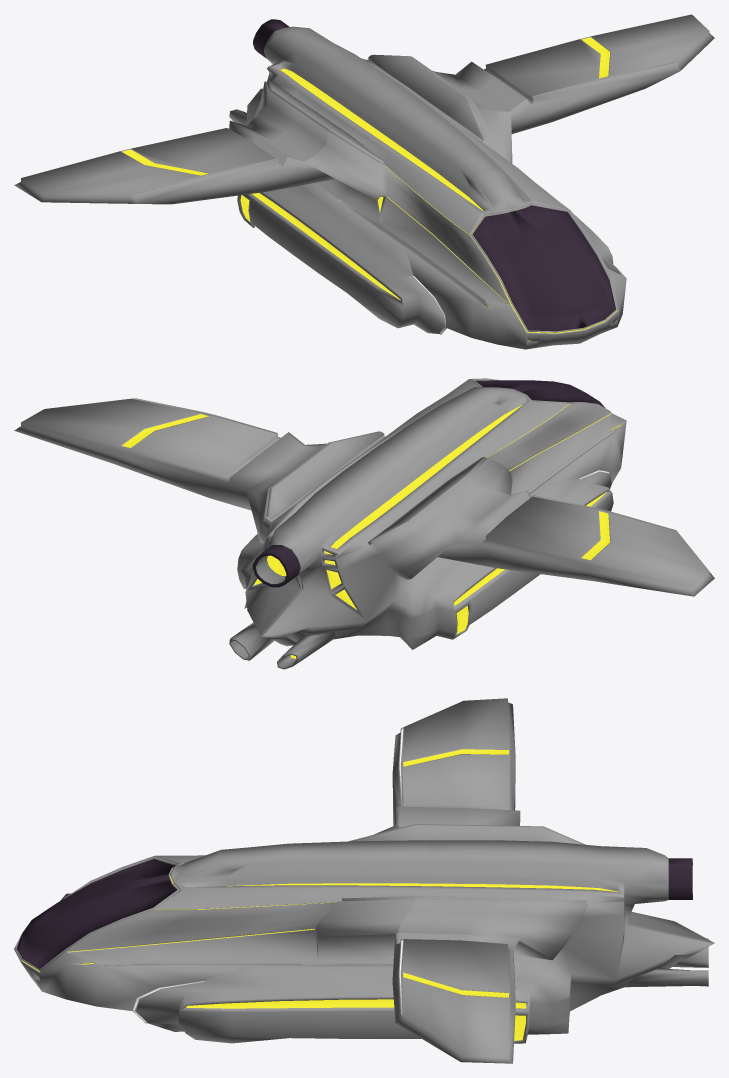
The model's file is spacecraft.glb.
3 views of the same model, one above another, from view 1: azimuth 30°, elevation 25°; view 2: azimuth 150°, elevation 25°; view 3: azimuth 270°, elevation 25° (orthographic). The views are drawn at different scales.
Parts seen in each view (by area): view 1: Scifi Scoutcraft; view 2: Scifi Scoutcraft; view 3: Scifi Scoutcraft.
Part boxes in pixels (x1,y1,x2,y2): Scifi Scoutcraft: [14, 14, 714, 349]; Scifi Scoutcraft: [14, 378, 714, 669]; Scifi Scoutcraft: [14, 698, 714, 1063].
Size of the model in its own units: 18.93 by 3.43 by 15.59.
